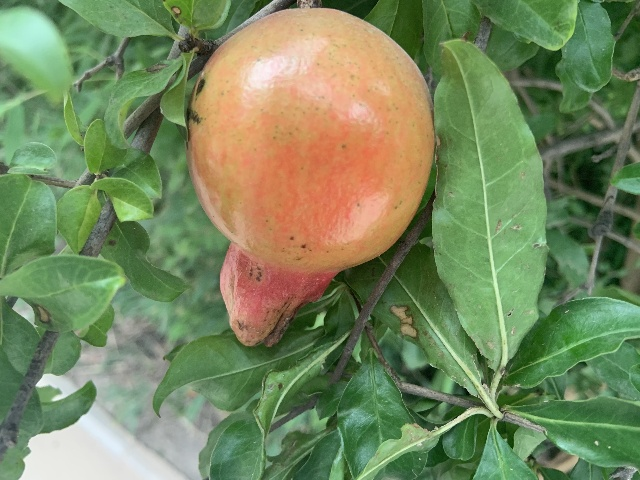ripe: (186, 7, 434, 347)
